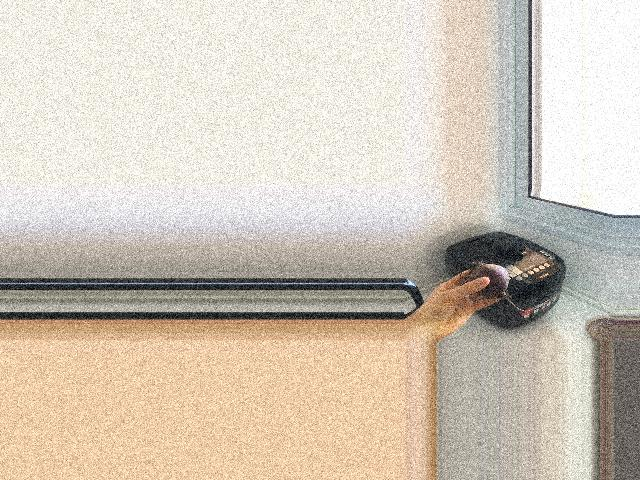beet: (460, 260, 524, 312)
